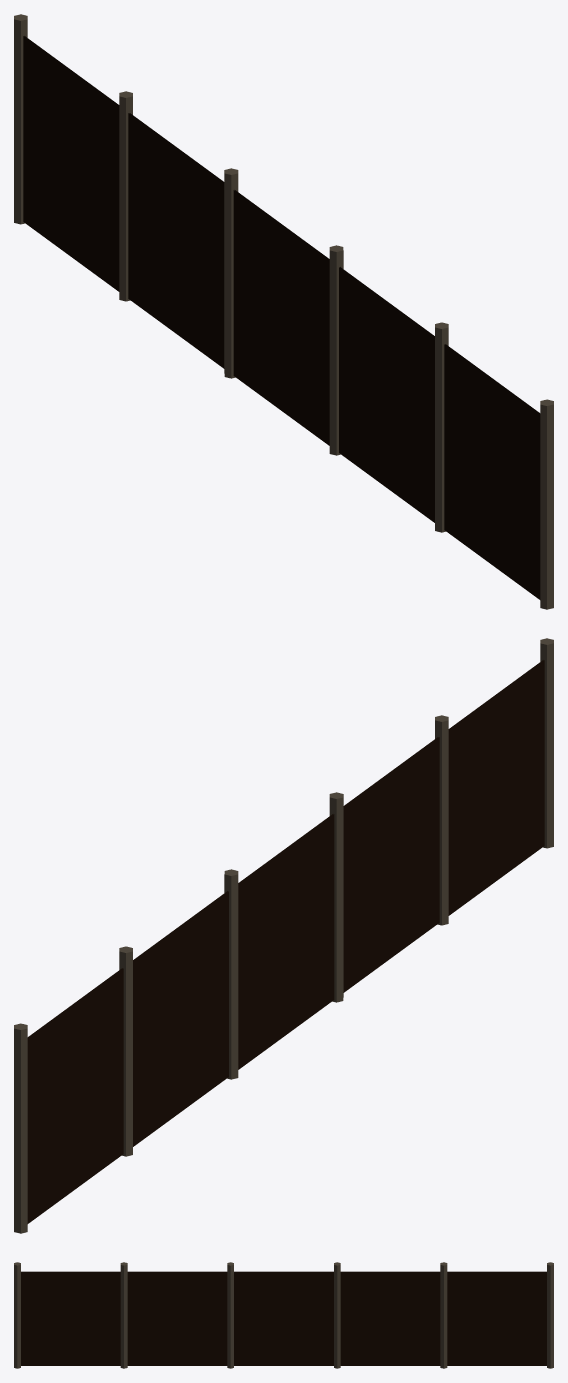
File: cove-fishing-net.lod2.glb
The picture shows the model from 3 angles, top to bottom: view 1: azimuth 30°, elevation 25°; view 2: azimuth 150°, elevation 25°; view 3: azimuth 270°, elevation 25°; orthographic projection. The views are drawn at different scales.
Visible parts, largest first — view 1: RedesPesca_RedeMaterial_0; view 2: RedesPesca_RedeMaterial_0; view 3: RedesPesca_RedeMaterial_0.
Part boxes in pixels (bbox=[...]): RedesPesca_RedeMaterial_0: bbox=[14, 14, 553, 609]; RedesPesca_RedeMaterial_0: bbox=[14, 638, 553, 1233]; RedesPesca_RedeMaterial_0: bbox=[14, 1262, 553, 1368].
Size of the model in its own units: 0.0894 by 1.26 by 6.
